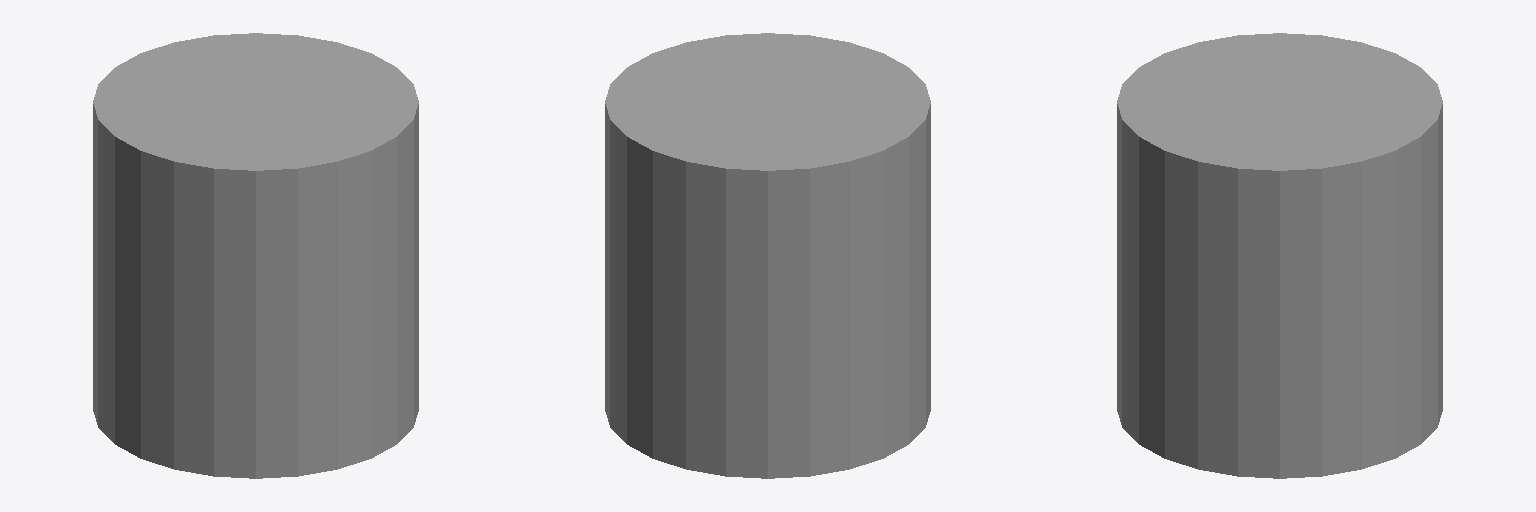
3 views of the same model, side by side, from view 1: azimuth 30°, elevation 25°; view 2: azimuth 150°, elevation 25°; view 3: azimuth 270°, elevation 25° (orthographic).
Visible parts, largest first — view 1: Non_subD; view 2: Non_subD; view 3: Non_subD.
Boxes of the visible parts, x1,y1,x2,y2 form: Non_subD: [93, 33, 418, 478]; Non_subD: [605, 33, 930, 478]; Non_subD: [1117, 33, 1442, 478].
Bounding box in the file's own units: 4.22 × 4.39 × 4.22.